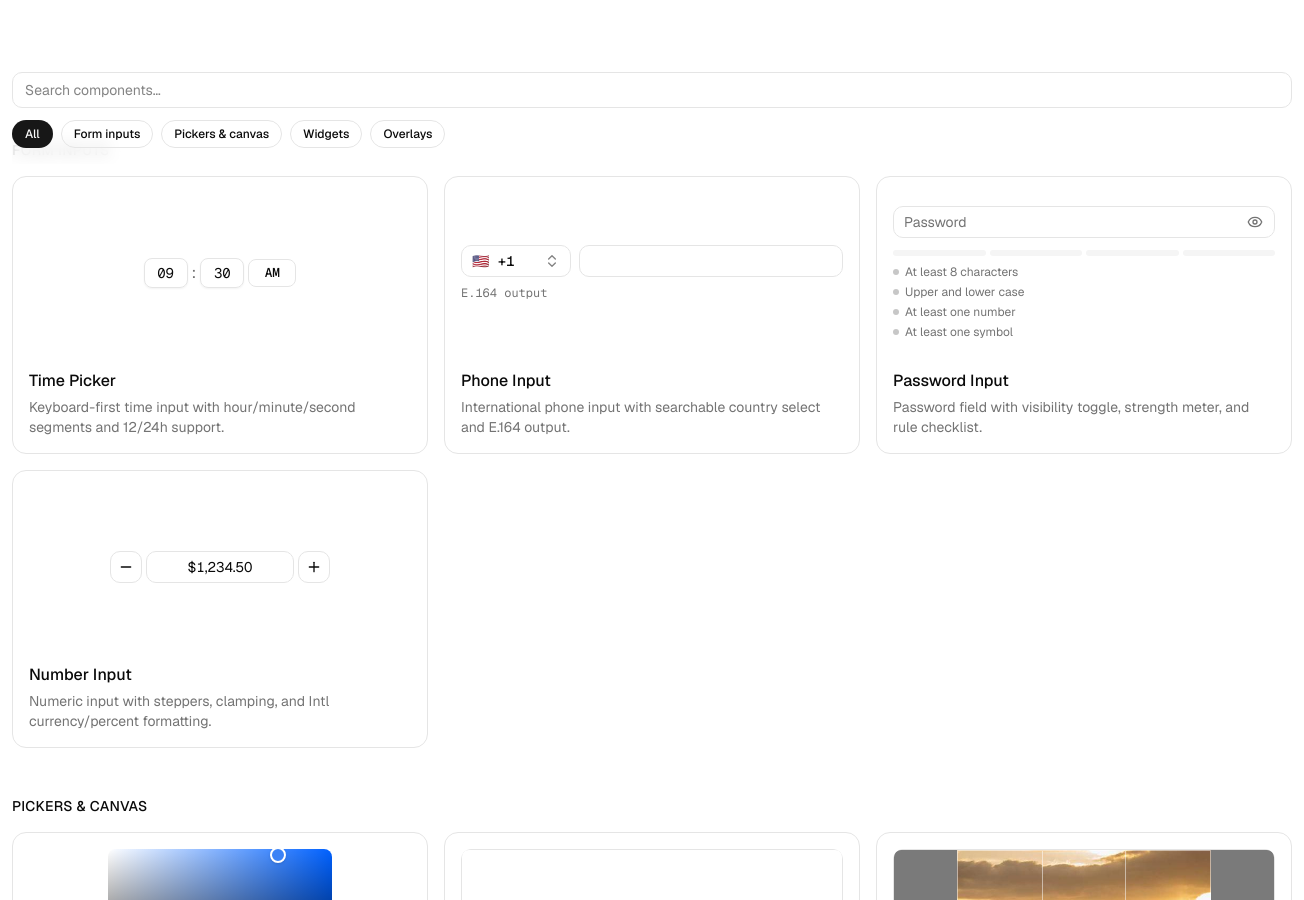
Test: ComponentGallery › search narrows cards and shows the empty state on no match
Type "kanban" into the search field labelled "Search components…" at x=652, y=90, box [12,72,1292,108]
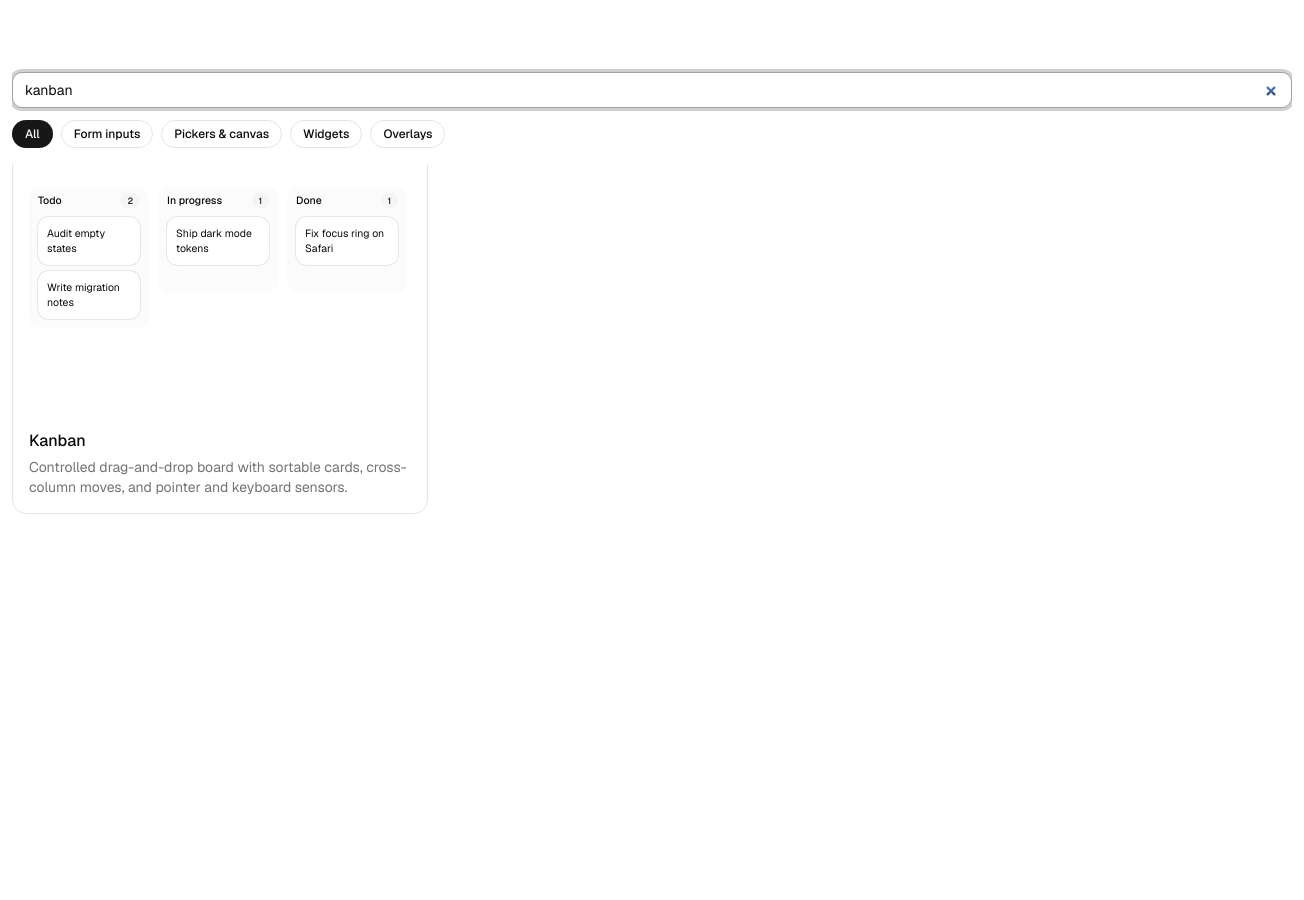
expect the number of links named "Open Kanban docs" is 1: met, box [13,141,427,513]
Replace the text in the search field named "Search" with "zzz" at x=652, y=90, box [12,72,1292,108]
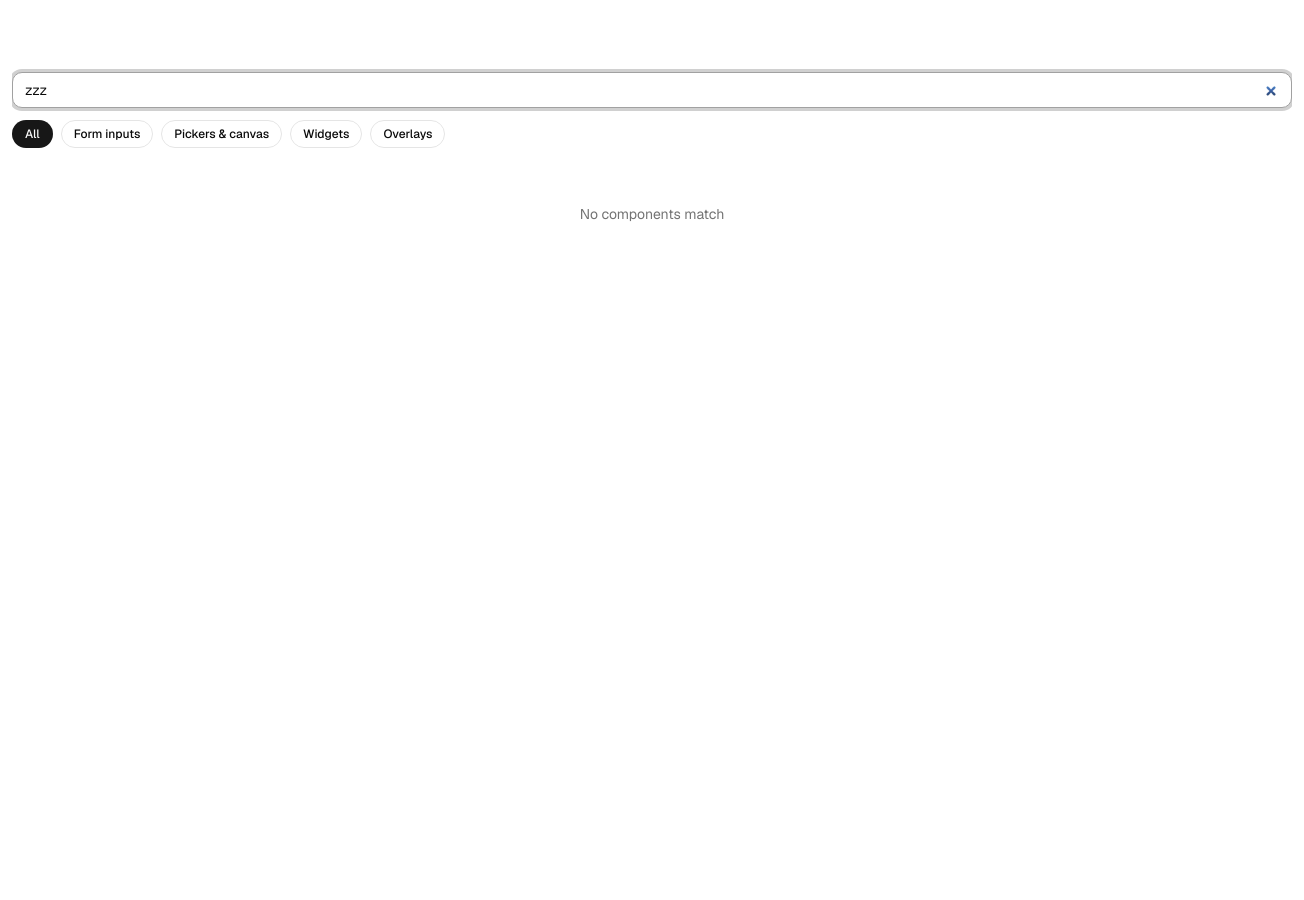
expect the text "No components match" is shown: met, box [580,205,724,223]
